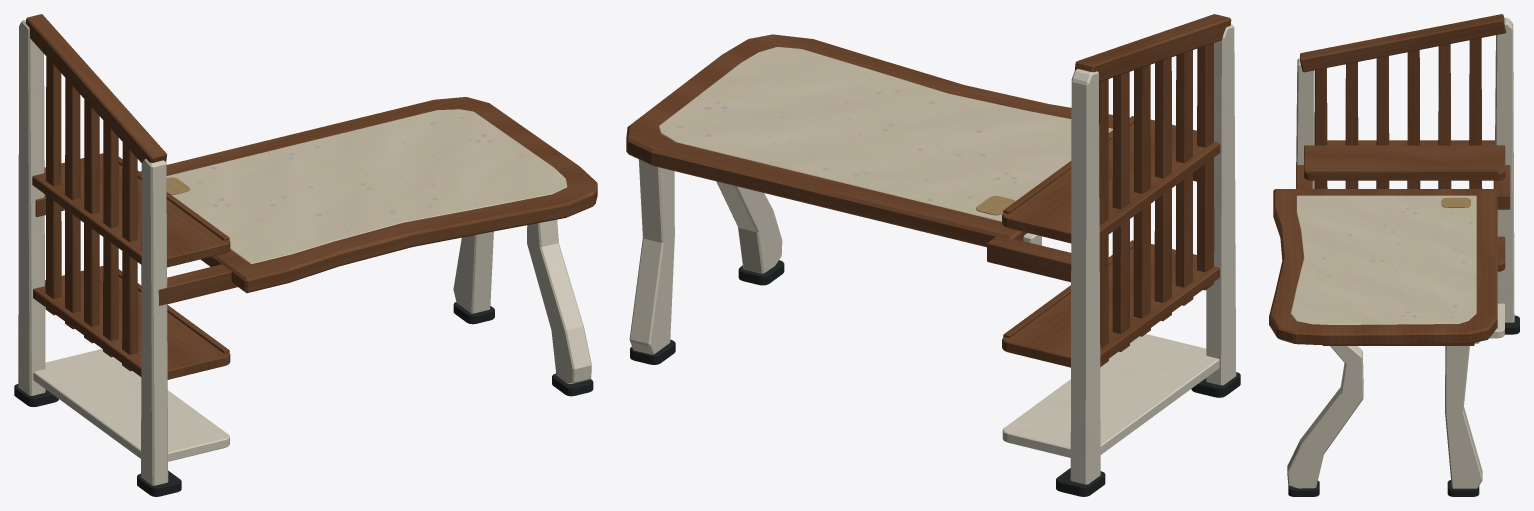
File: AST-LIB-STUDY-02.glb
The picture shows the model from 3 angles, left to right: view 1: azimuth 30°, elevation 25°; view 2: azimuth 150°, elevation 25°; view 3: azimuth 270°, elevation 25°; orthographic projection. The views are drawn at different scales.
Visible parts, largest first — view 1: AST-LIB-STUDY-02_static_visual; view 2: AST-LIB-STUDY-02_static_visual; view 3: AST-LIB-STUDY-02_static_visual.
Boxes of the visible parts, box(x1,y1,x2,y2) form: AST-LIB-STUDY-02_static_visual: box(14, 14, 597, 496); AST-LIB-STUDY-02_static_visual: box(626, 14, 1240, 496); AST-LIB-STUDY-02_static_visual: box(1269, 14, 1519, 496).
Size of the model in its own units: 1.72 by 1.4 by 1.02.
5 materials, 5 textured.
